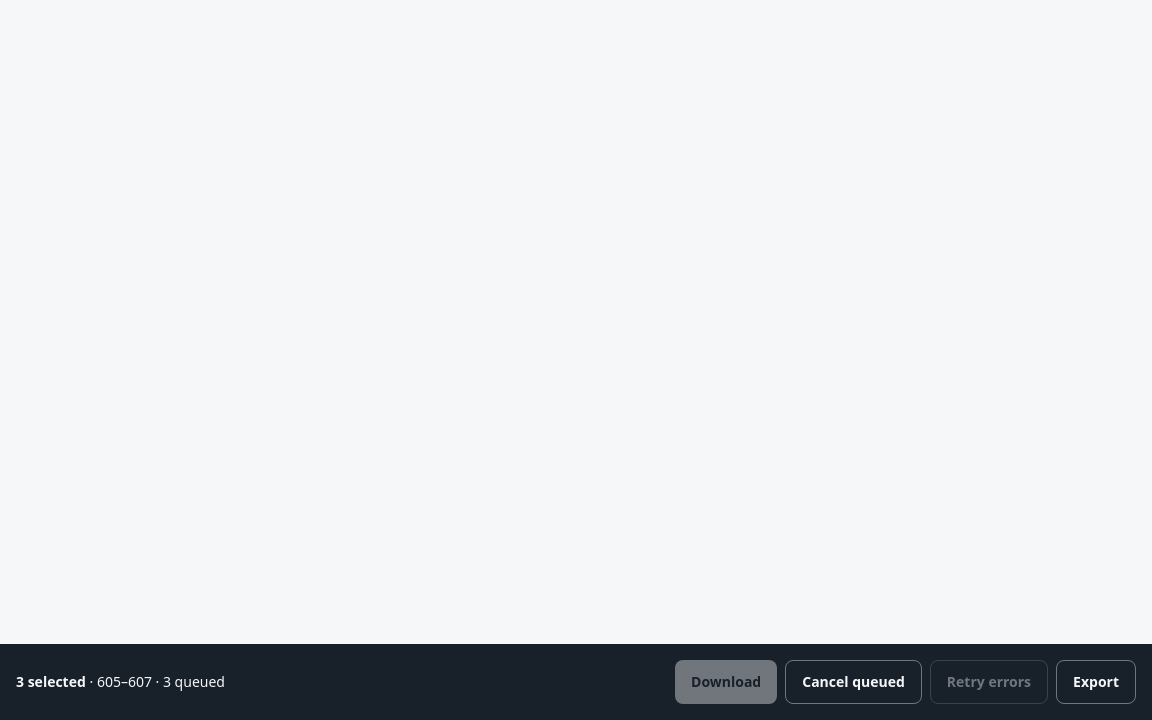
Test: SelectionBar › the confirmation for Cancel queued › Keep queued closes it without a request
This screenshot has width=1152, height=720.
What coordinates should you click on to do the following:
click the button "Cancel queued"
I would click on:
 (854, 682)
Its box is [785,660,922,704].
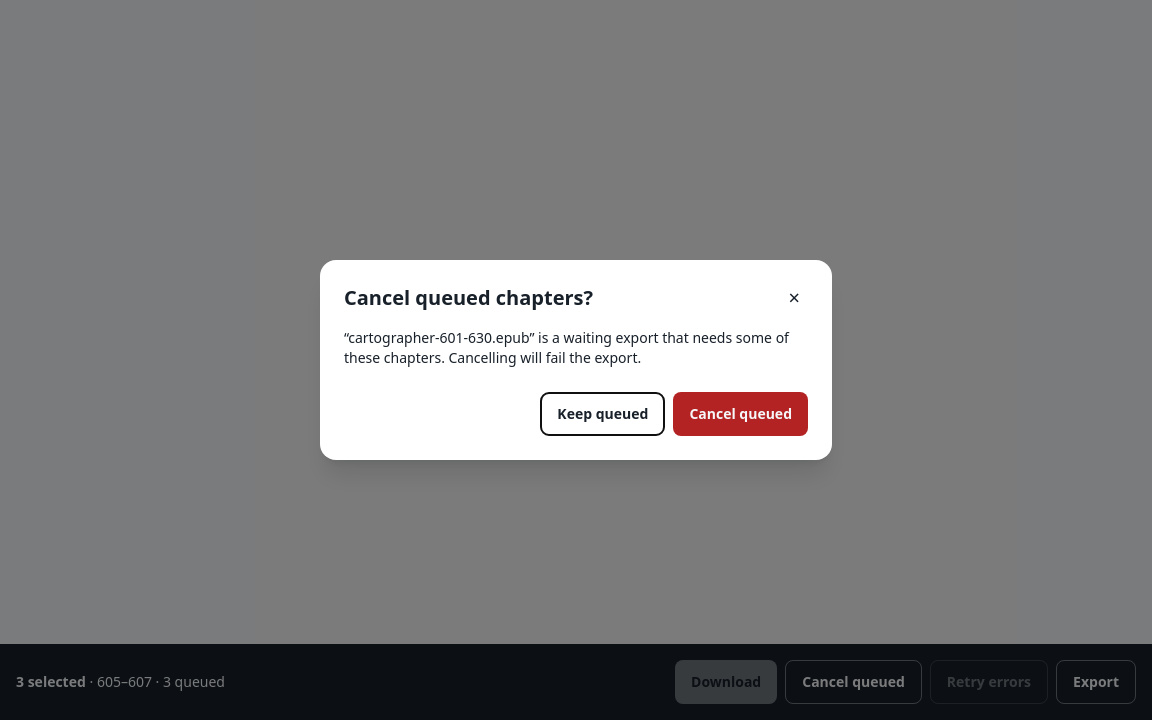
What coordinates should you click on to do the following:
click the button "Keep queued"
I would click on:
 (603, 414)
Its box is [540,392,665,436].
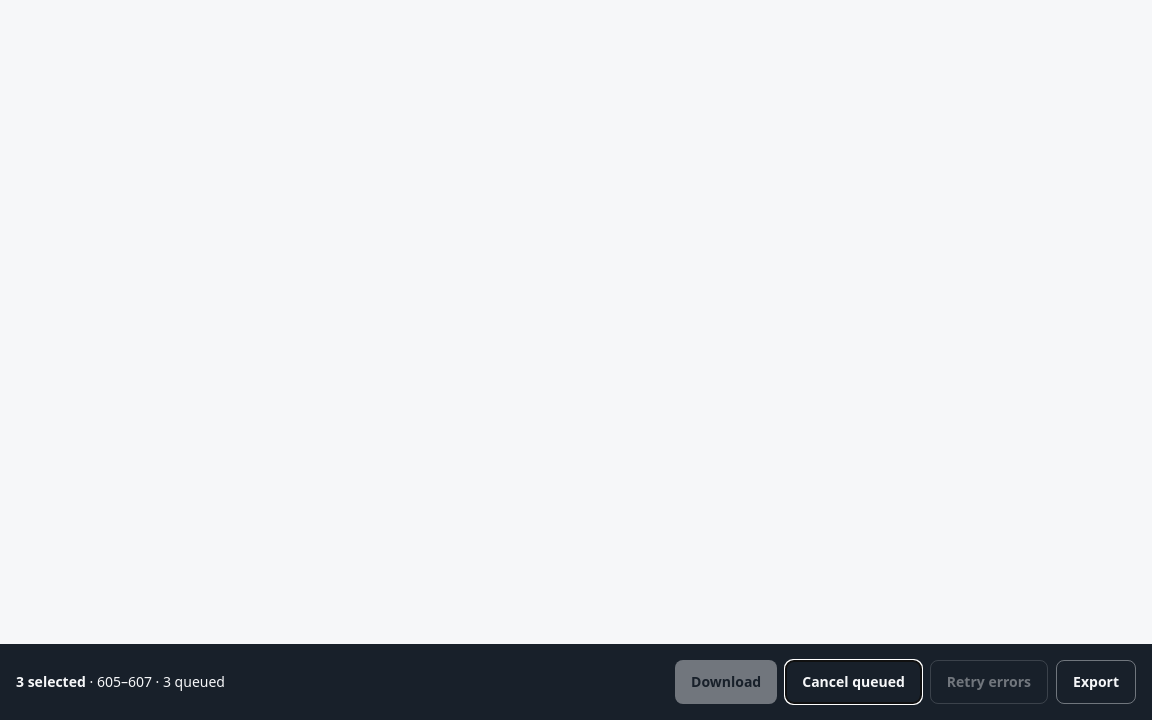
Check: the dialog is gone
